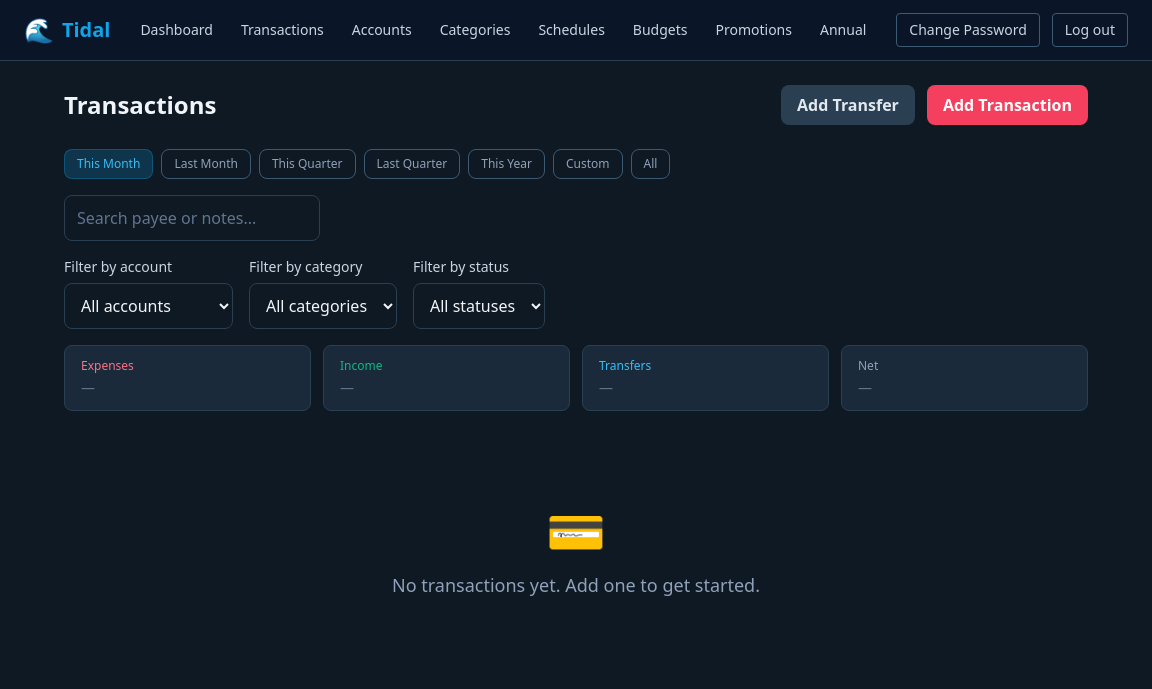
Scenario: TransactionsPage › shows AddTransactionForm when Add Transaction is clicked
This screenshot has width=1152, height=689.
Step 1. Click the button "Add Transaction" → (1007, 105), box [927,85,1088,125]
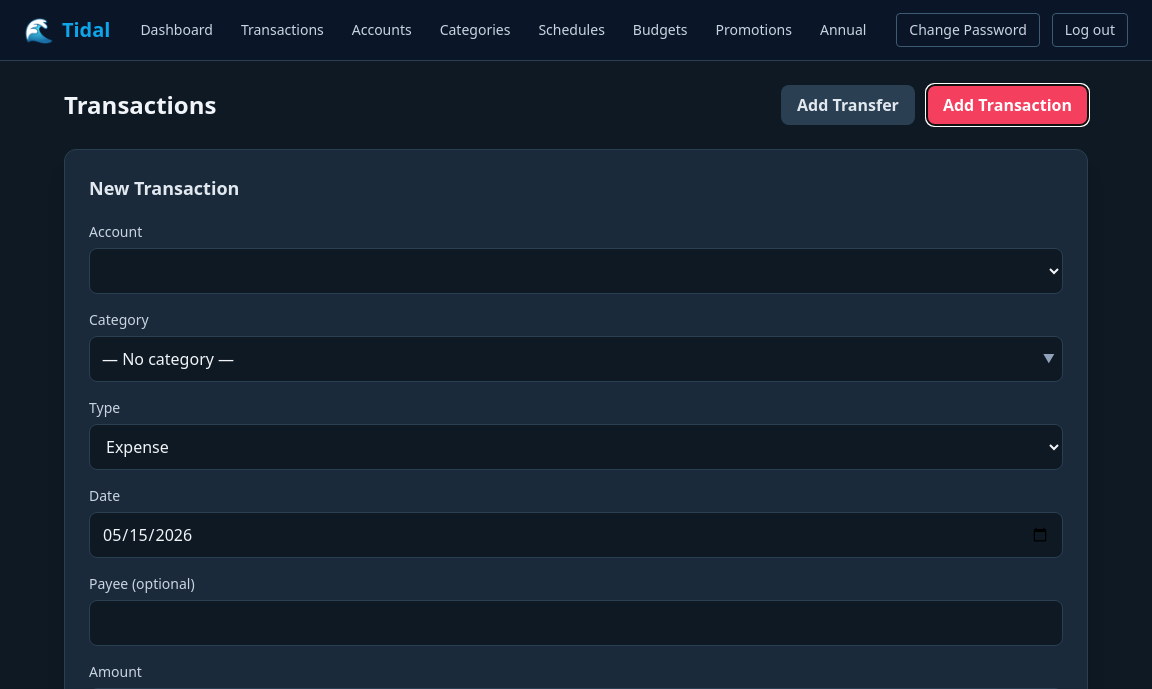
Now the dropdown labelled "Type" is shown, box [89,424,1063,470]
